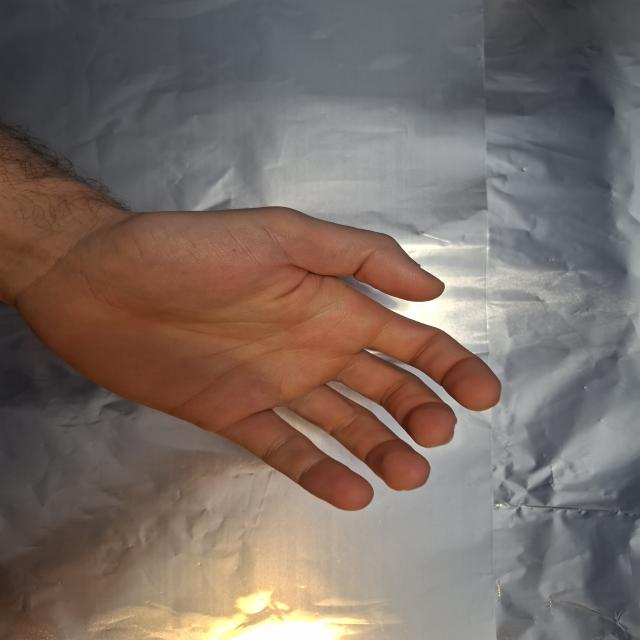glove_off: (8, 176, 504, 514)
